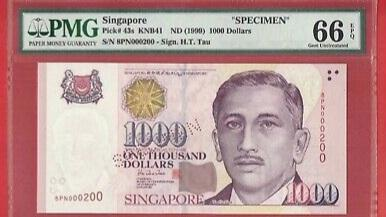1000SingaporeDollar: (38, 64, 347, 213)
